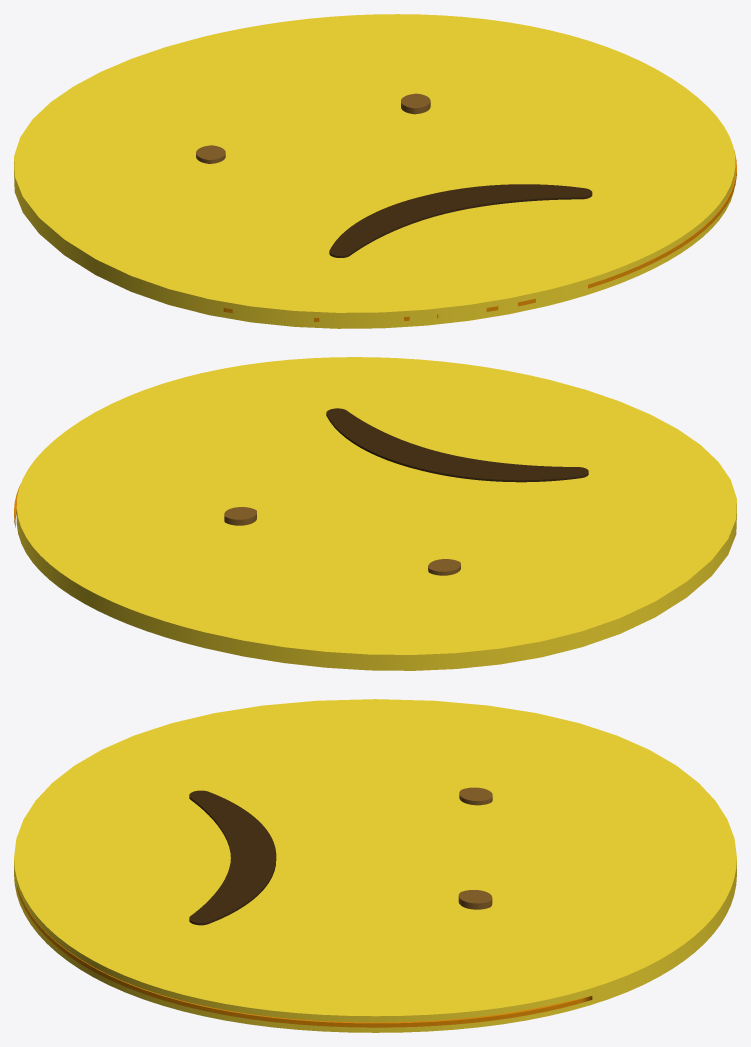
Rendered from emoji_u1f641.glb.
3 views of the same model, one above another, from view 1: azimuth 30°, elevation 25°; view 2: azimuth 150°, elevation 25°; view 3: azimuth 270°, elevation 25° (orthographic). The views are drawn at different scales.
Parts seen in each view (by area): view 1: emoji_u1f641; view 2: emoji_u1f641; view 3: emoji_u1f641.
Boxes of the visible parts, x1=… form: emoji_u1f641: x1=14, y1=14, x2=736, y2=328; emoji_u1f641: x1=14, y1=357, x2=736, y2=670; emoji_u1f641: x1=14, y1=699, x2=736, y2=1032.
Size of the model in its own units: 0.0327 by 0.0014 by 0.0315.
